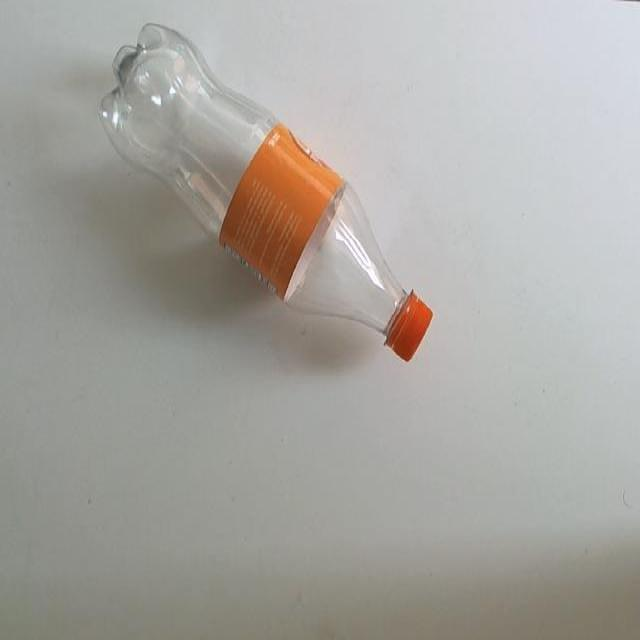non-defect: (99, 21, 434, 364)
